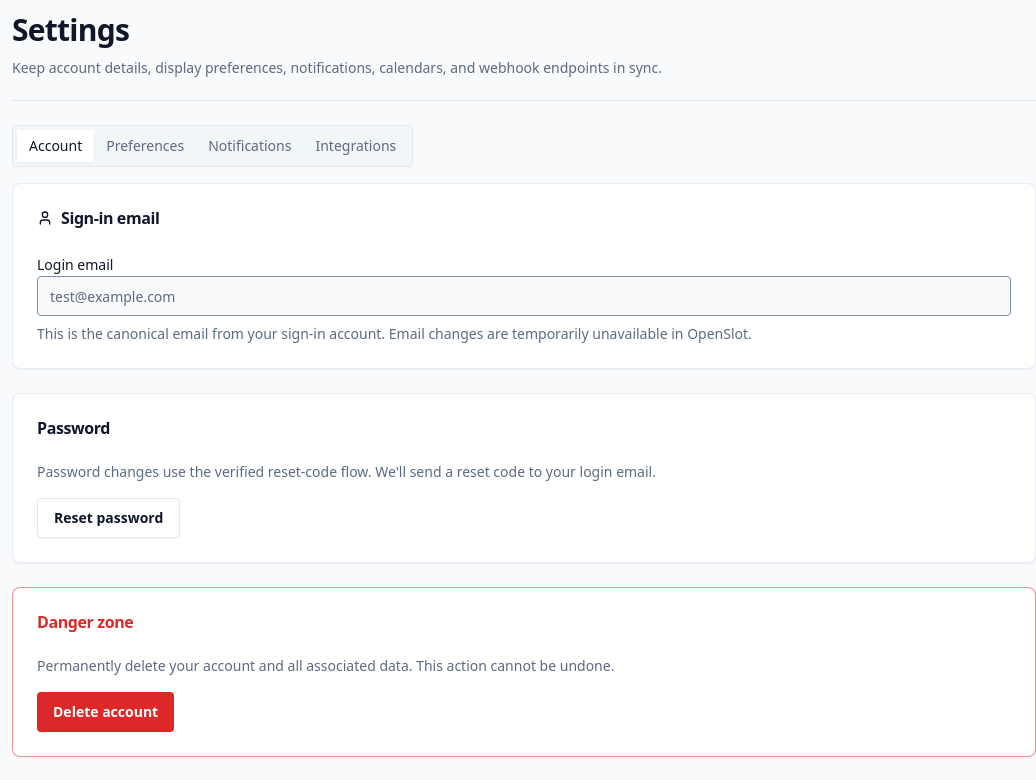
Test: SettingsClient › clears the preferences dirty baseline after its save succeeds
Click the tab "Preferences" at (145, 146), box [94, 130, 196, 162]
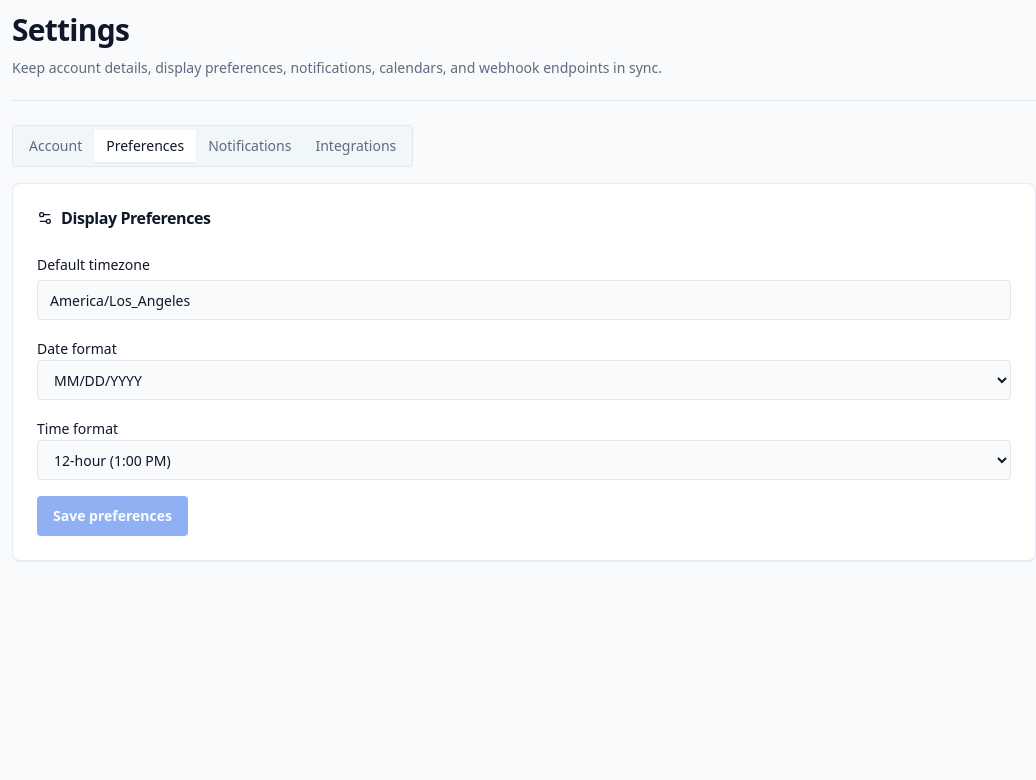
Select "DD/MM/YYYY" in the dropdown labelled "Date format" at (524, 380), box [37, 360, 1011, 400]
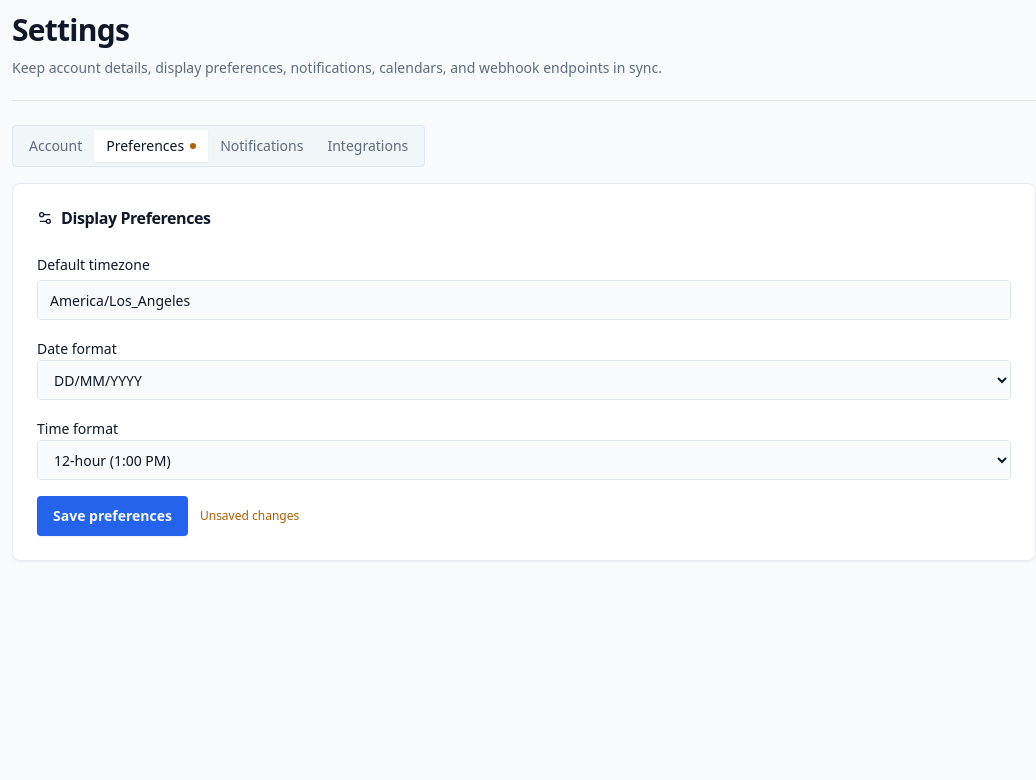
Expected: the tab with aria-label "Preferences, unsaved changes" is shown, [94, 130, 208, 162]
Click the button "Save preferences" at (112, 516), box [37, 496, 188, 536]
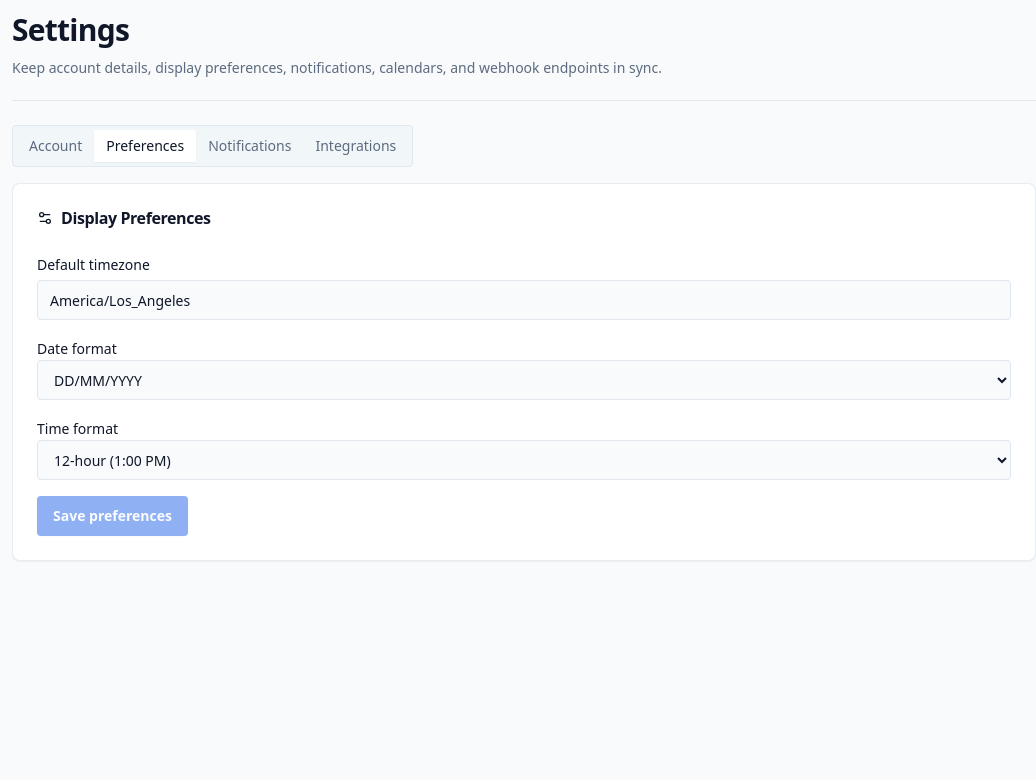
Expected: the tab "Preferences" is shown, [94, 130, 196, 162]
Expected: the button "Save preferences" is disabled, [37, 496, 188, 536]
